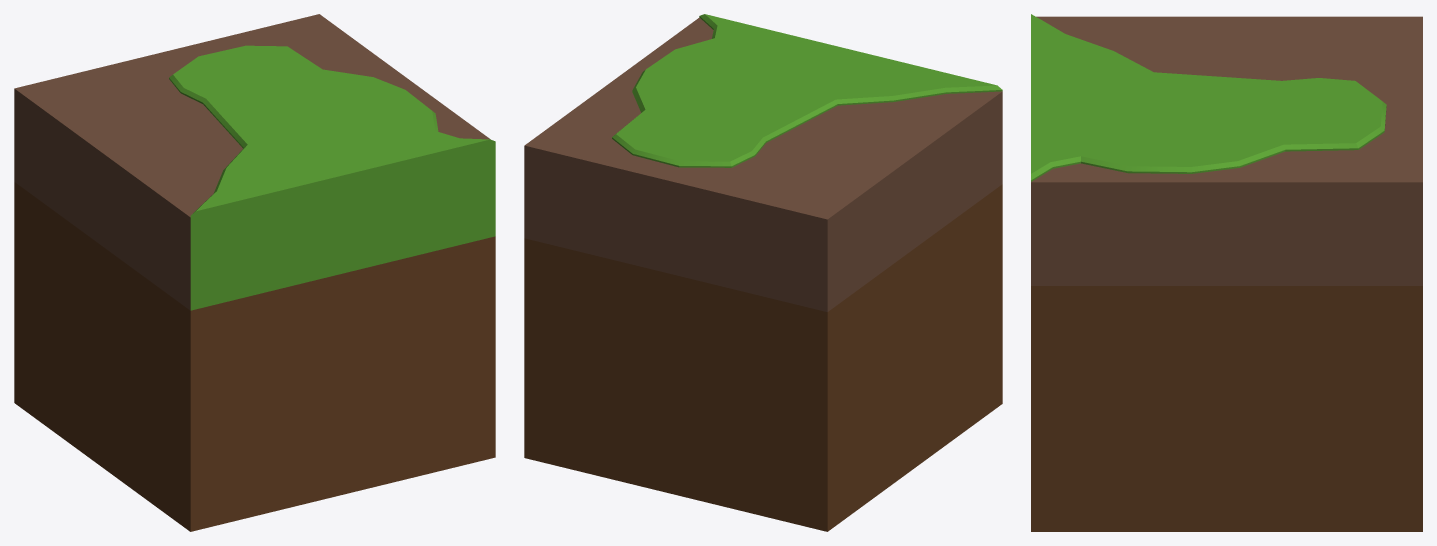
File: Grass-Ground 9.fbx
3 views of the same model, side by side, from view 1: azimuth 30°, elevation 25°; view 2: azimuth 150°, elevation 25°; view 3: azimuth 270°, elevation 25° (orthographic). The views are drawn at different scales.
Parts seen in each view (by area): view 1: Grass/Ground 9; view 2: Grass/Ground 9; view 3: Grass/Ground 9.
Part boxes in pixels (bbox=[...]): Grass/Ground 9: bbox=[14, 14, 495, 531]; Grass/Ground 9: bbox=[524, 14, 1002, 531]; Grass/Ground 9: bbox=[1031, 14, 1422, 531].
Bounding box in the file's own units: 200 × 200 × 200.
